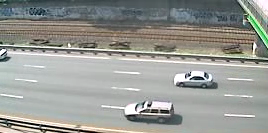car: (121, 98, 178, 124), (172, 69, 214, 89)
